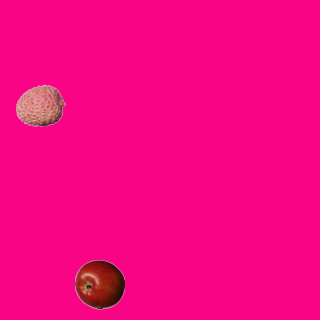Apple Braeburn: (74, 259, 124, 309)
Lychee: (15, 80, 65, 130)
